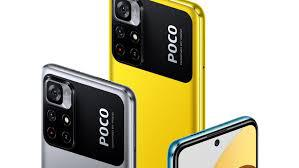Smartphone: (106, 0, 205, 168), (35, 61, 132, 168), (167, 118, 256, 168)
